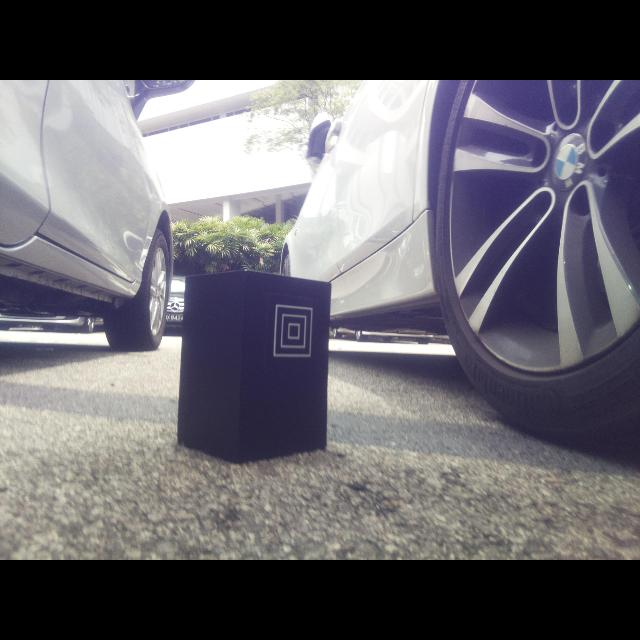BULLSEYE: (273, 304, 312, 358)
